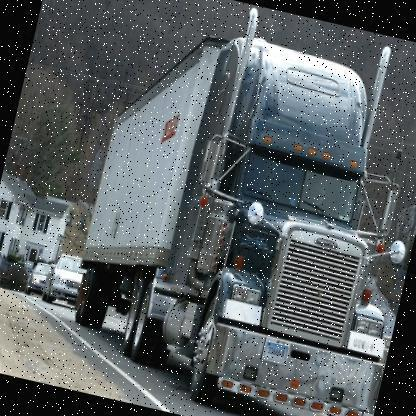License-Plate: (261, 336, 293, 367)
